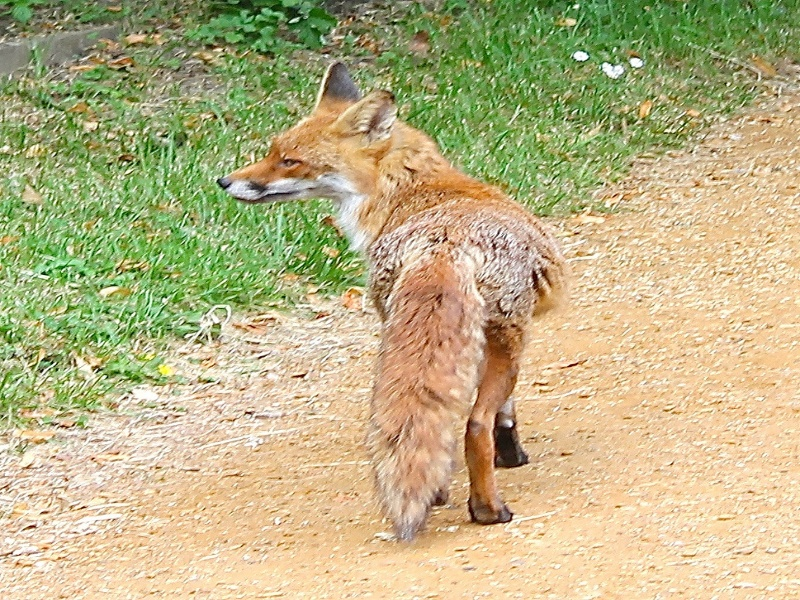fox: (218, 58, 561, 554)
